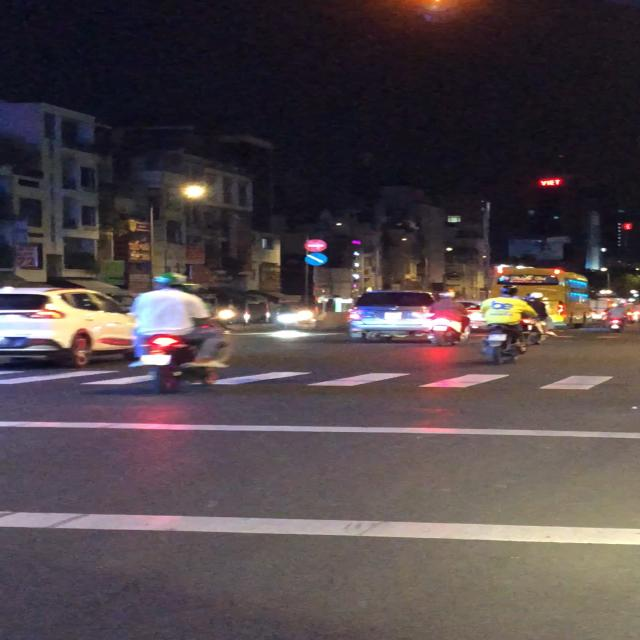Bien bao cam di nguoc chieu: (304, 239, 329, 252)
Bien bao huong phai di vong chuong ngai vat: (304, 253, 330, 266)
